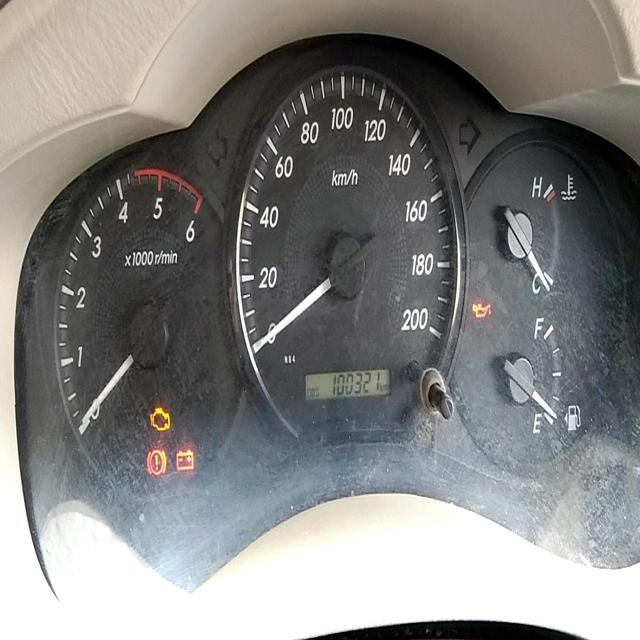odometer: (331, 368, 383, 399)
